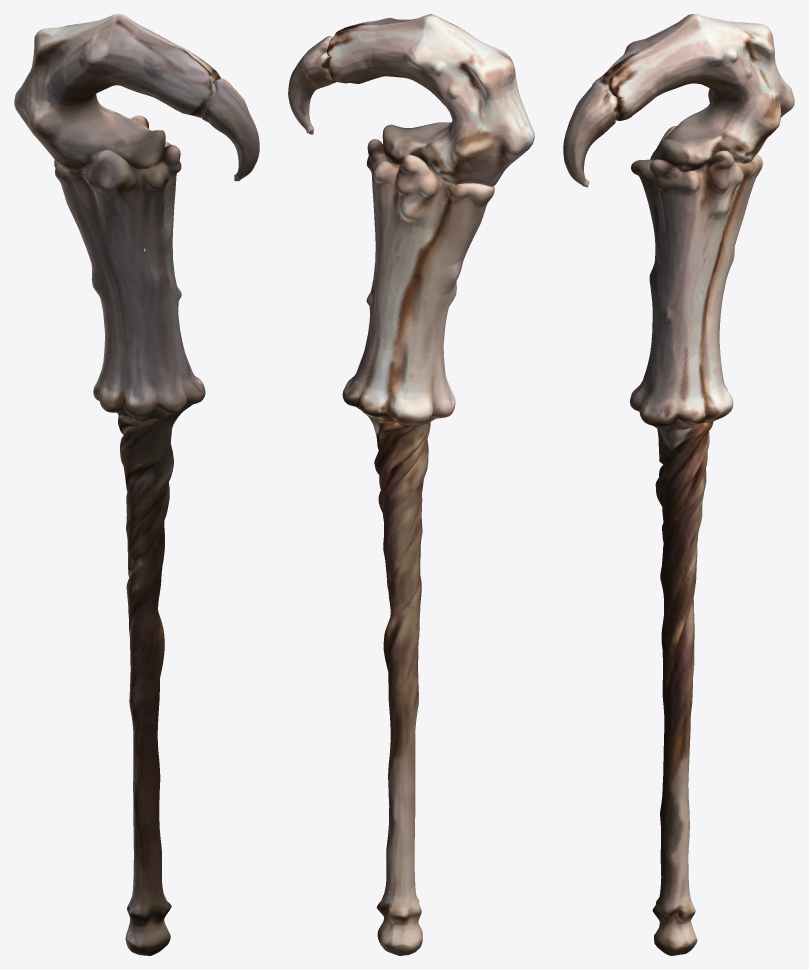
Rendered from staff_fantasy_6.glb.
The picture shows the model from 3 angles, left to right: view 1: azimuth 30°, elevation 25°; view 2: azimuth 210°, elevation 25°; view 3: azimuth 270°, elevation 25°; orthographic projection.
Parts seen in each view (by area): view 1: staff_fantasy_6.glb_6; view 2: staff_fantasy_6.glb_6; view 3: staff_fantasy_6.glb_6.
Boxes of the visible parts, x1=… form: staff_fantasy_6.glb_6: x1=14, y1=14, x2=259, y2=955; staff_fantasy_6.glb_6: x1=288, y1=14, x2=534, y2=955; staff_fantasy_6.glb_6: x1=563, y1=14, x2=794, y2=955.
Size of the model in its own units: 0.2955 by 1.75 by 0.3965.
1 material, 1 textured.
